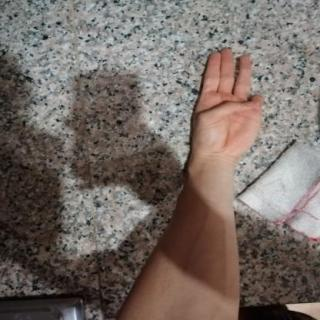THA: (182, 44, 270, 164)
